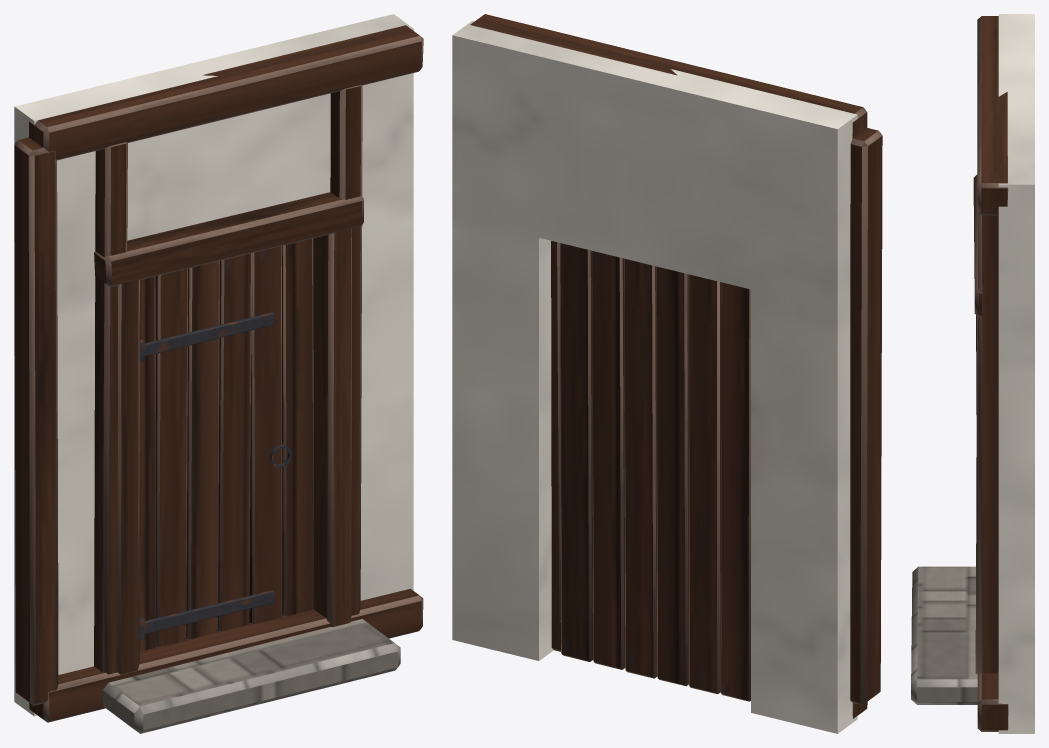
The model's file is SM_Mod_Wall_Timber_Door.gltf.
The picture shows the model from 3 angles, left to right: view 1: azimuth 30°, elevation 25°; view 2: azimuth 150°, elevation 25°; view 3: azimuth 270°, elevation 25°; orthographic projection. The views are drawn at different scales.
Parts seen in each view (by area): view 1: SM_Mod_Wall_Timber_Door; view 2: SM_Mod_Wall_Timber_Door; view 3: SM_Mod_Wall_Timber_Door.
Part boxes in pixels (x1=…): SM_Mod_Wall_Timber_Door: x1=14, y1=14, x2=423, y2=733; SM_Mod_Wall_Timber_Door: x1=452, y1=14, x2=882, y2=733; SM_Mod_Wall_Timber_Door: x1=911, y1=14, x2=1034, y2=733.
Bounding box in the file's own units: 2.08 × 3.01 × 0.6134.
1 material, 1 textured.
